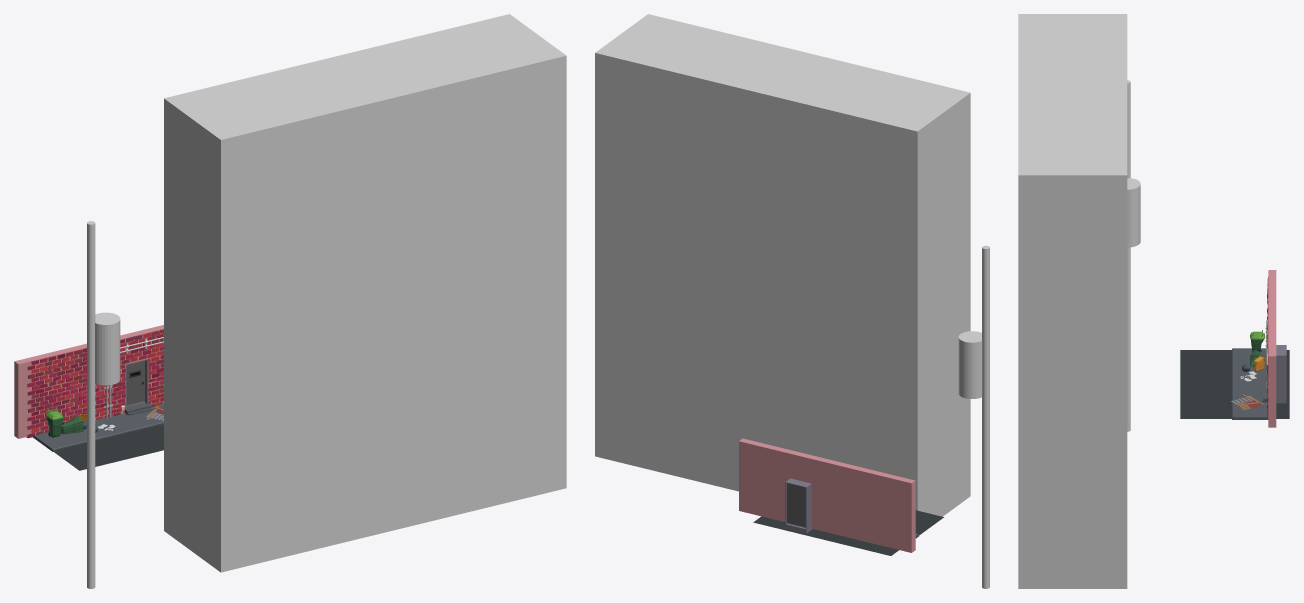
File: TrashClashMenu.fbx
3 views of the same model, side by side, from view 1: azimuth 30°, elevation 25°; view 2: azimuth 150°, elevation 25°; view 3: azimuth 270°, elevation 25° (orthographic). The views are drawn at different scales.
Visible parts, largest first — view 1: Bangunan1, Tembok, Tiang, Plane, Jalanan, Pintu; view 2: Bangunan1, Tembok, Tiang, Plane, Pintu, frameP{intu; view 3: Bangunan1, Plane, Tiang, Jalanan, Tembok, frameP{intu.
Boxes of the visible parts, x1,y1,x2,y2 form: Bangunan1: (164,14,566,572); Tembok: (14,325,163,438); Tiang: (87,221,120,588); Plane: (39,424,163,470); Jalanan: (33,403,163,451); Pintu: (126,361,144,406); Bangunan1: (595,14,970,516); Tembok: (739,438,915,552); Tiang: (958,245,989,588); Plane: (753,510,943,555); Pintu: (787,483,805,527); frameP{intu: (785,478,812,533); Bangunan1: (1018,14,1127,588); Plane: (1180,350,1289,418); Tiang: (1127,80,1140,431); Jalanan: (1232,348,1268,419); Tembok: (1267,270,1276,427); frameP{intu: (1276,345,1286,403).
Size of the model in its own units: 13292 by 14156 by 7737.
